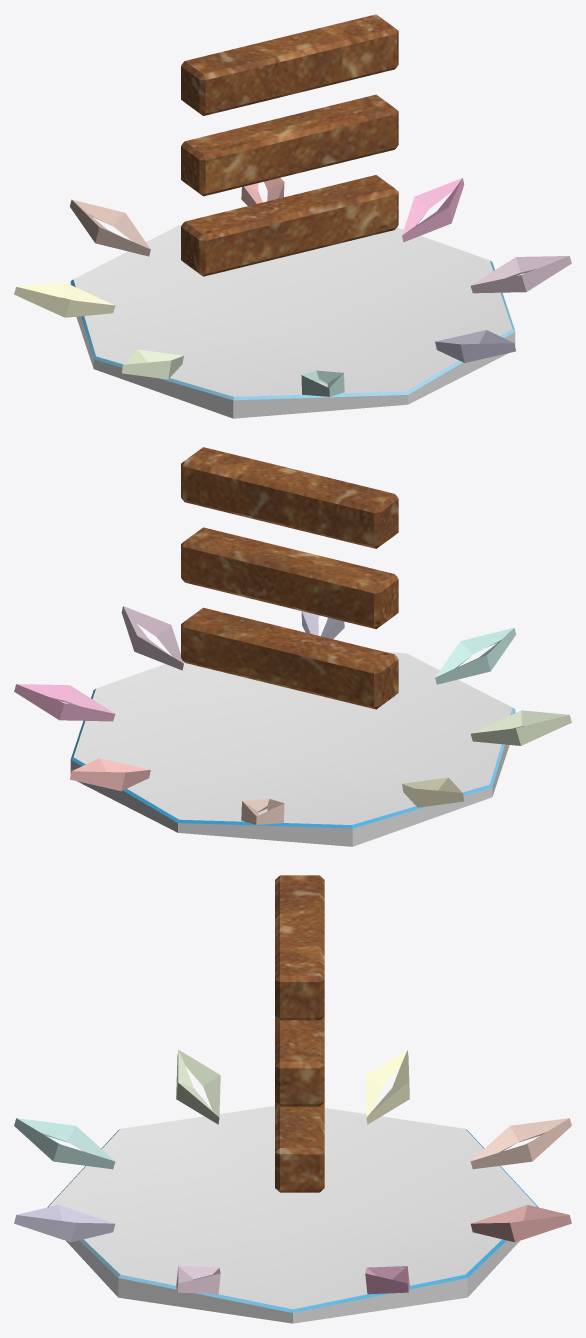
Rendered from SM_Button_02.fbx.
The picture shows the model from 3 angles, top to bottom: view 1: azimuth 30°, elevation 25°; view 2: azimuth 150°, elevation 25°; view 3: azimuth 270°, elevation 25°; orthographic projection. The views are drawn at different scales.
Parts seen in each view (by area): view 1: SM_Button_02; view 2: SM_Button_02; view 3: SM_Button_02.
Boxes of the visible parts, x1,y1,x2,y2 form: SM_Button_02: (14,14,571,418); SM_Button_02: (14,447,571,846); SM_Button_02: (14,875,571,1323).
Size of the model in its own units: 22.58 by 14.33 by 22.58.
